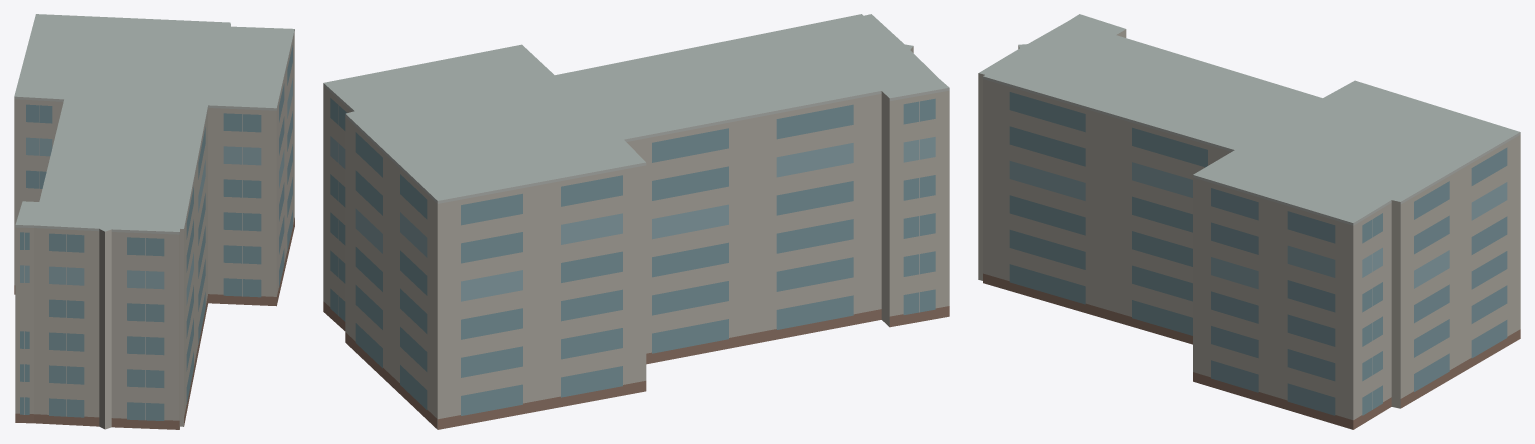
The model's file is survey-upis-32552893.glb.
3 views of the same model, side by side, from view 1: azimuth 30°, elevation 25°; view 2: azimuth 150°, elevation 25°; view 3: azimuth 270°, elevation 25° (orthographic). The views are drawn at different scales.
Visible parts, largest first — view 1: survey-upis-32552893.tmp; view 2: survey-upis-32552893.tmp; view 3: survey-upis-32552893.tmp.
Boxes of the visible parts, x1,y1,x2,y2 form: survey-upis-32552893.tmp: [14, 14, 294, 429]; survey-upis-32552893.tmp: [323, 14, 949, 429]; survey-upis-32552893.tmp: [978, 14, 1520, 429].
Bounding box in the file's own units: 41.46 × 19.1 × 45.39.
